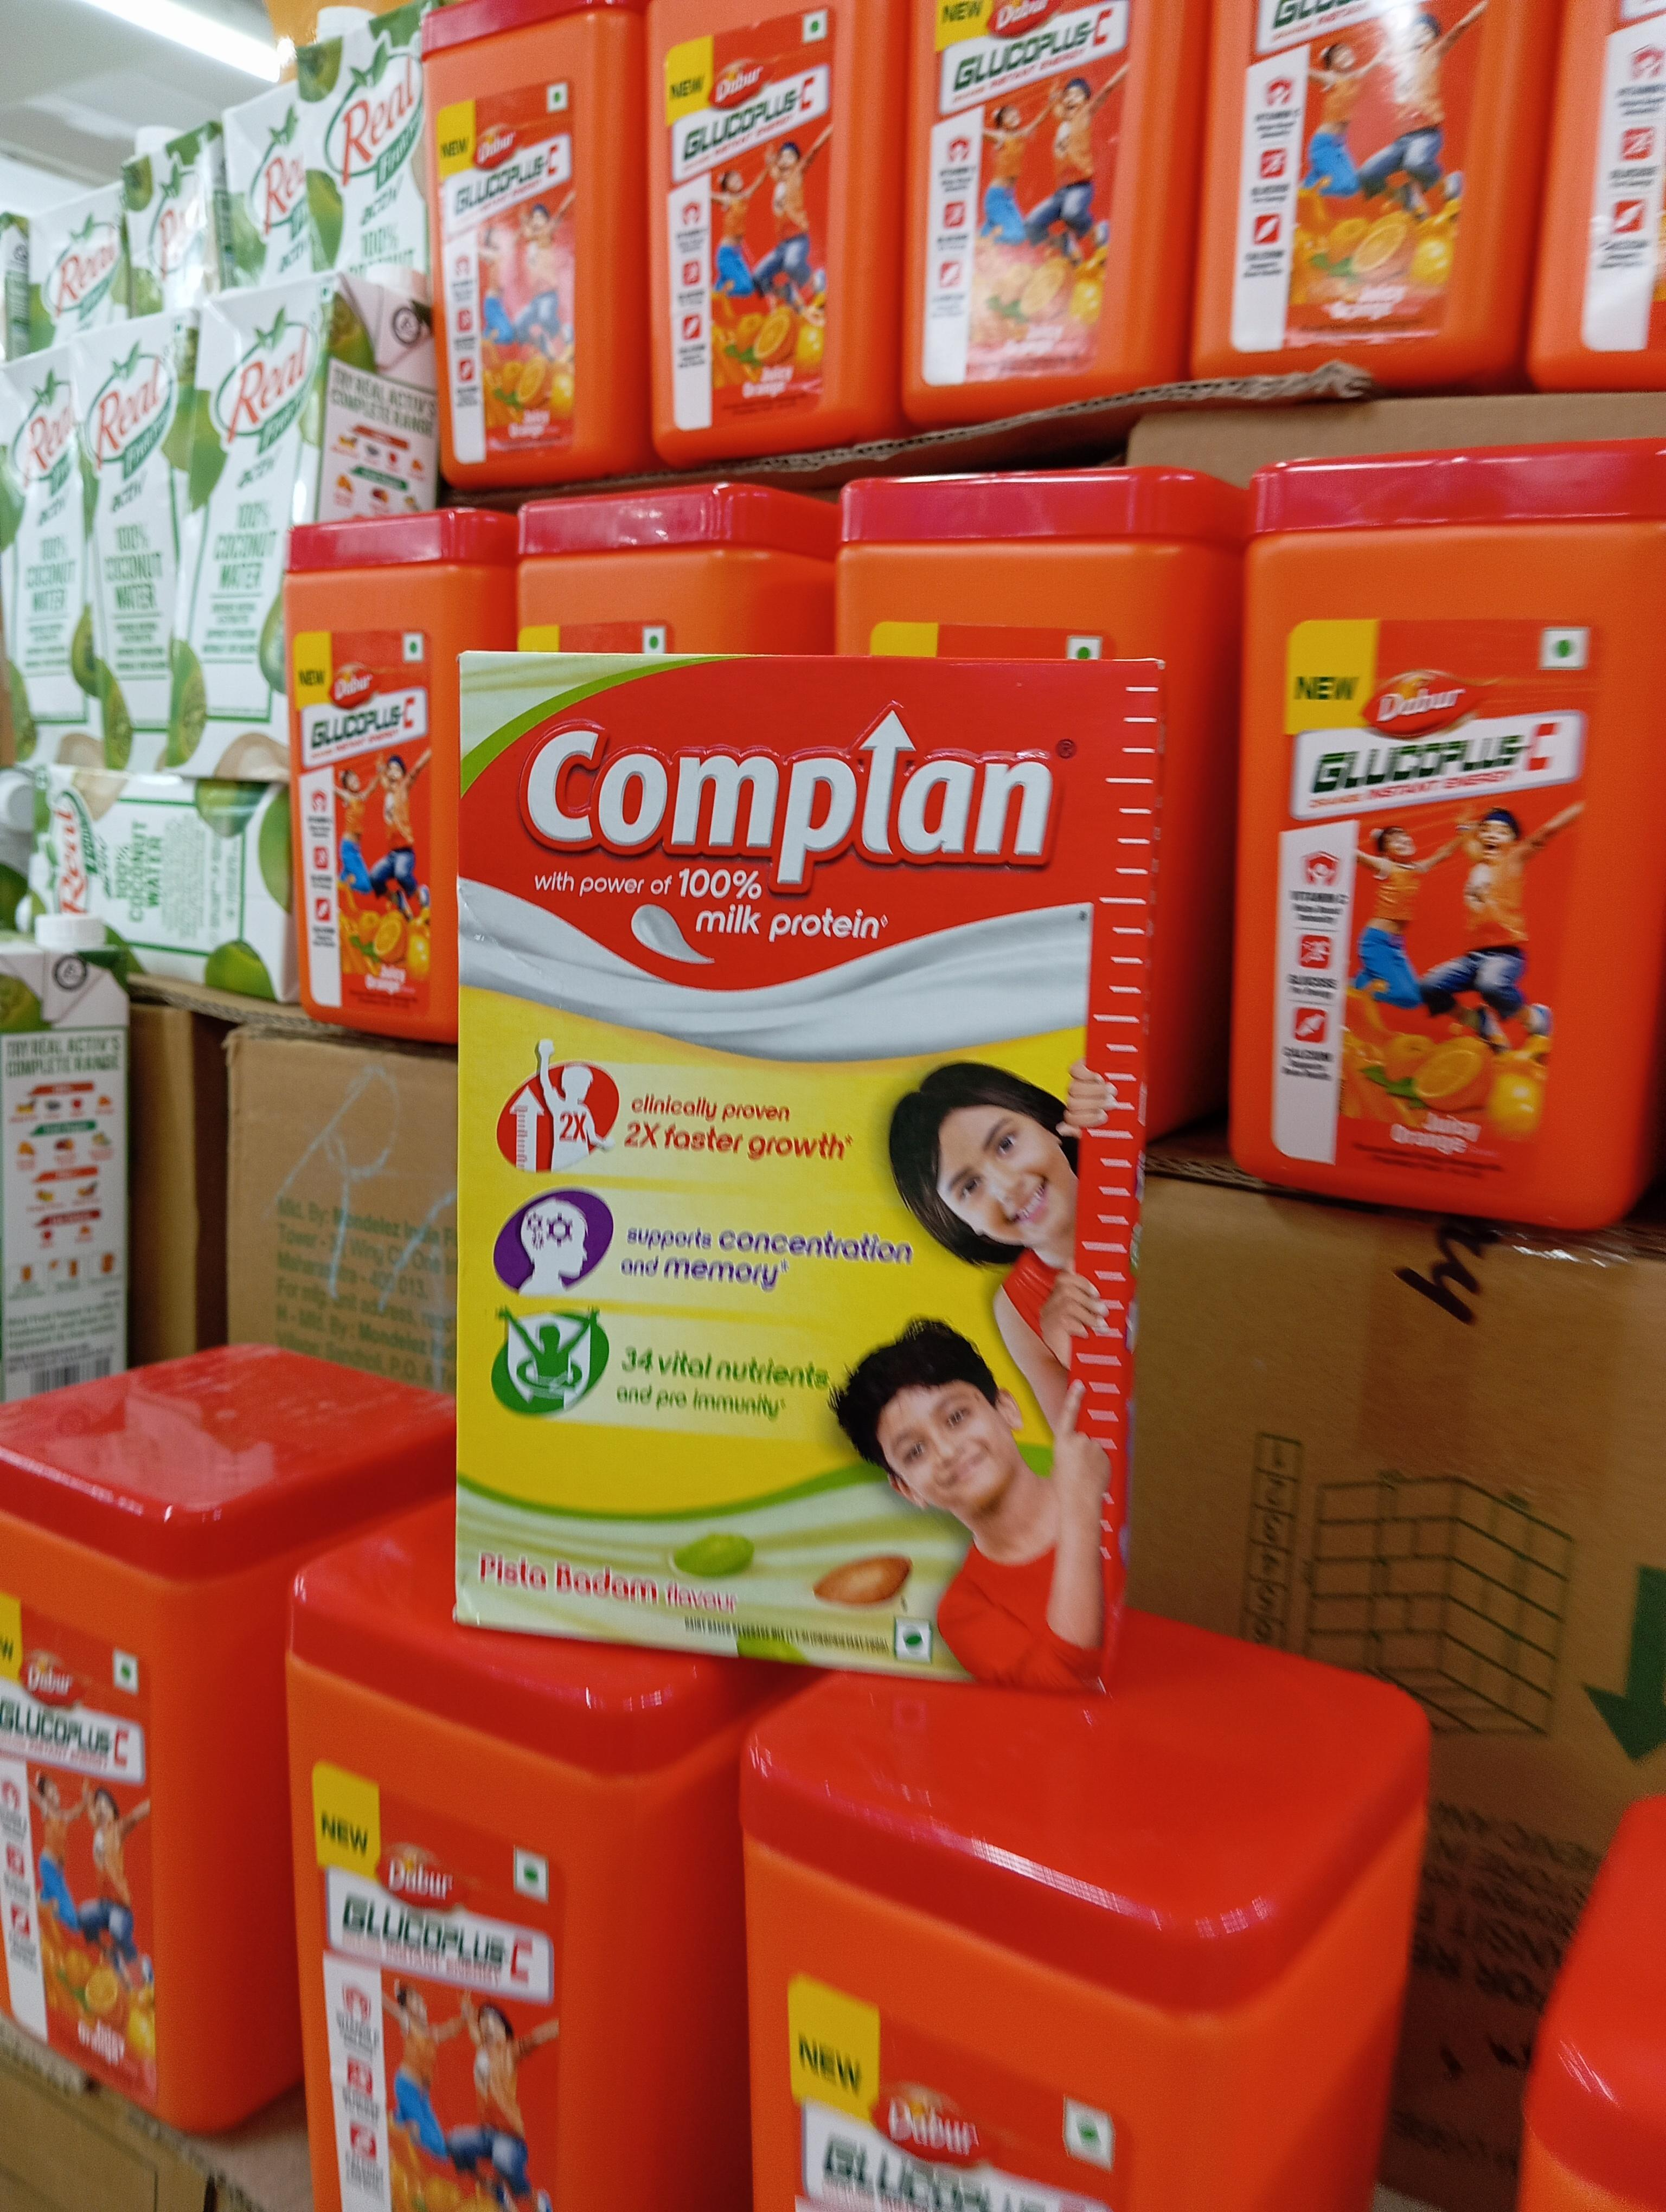COMPLAN_PISTA_BADAM_500_GMS_PACK: (466, 666, 1125, 1682)
